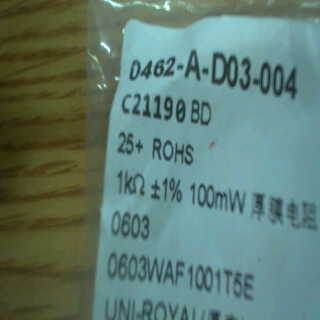1kR: (117, 168, 149, 203)
